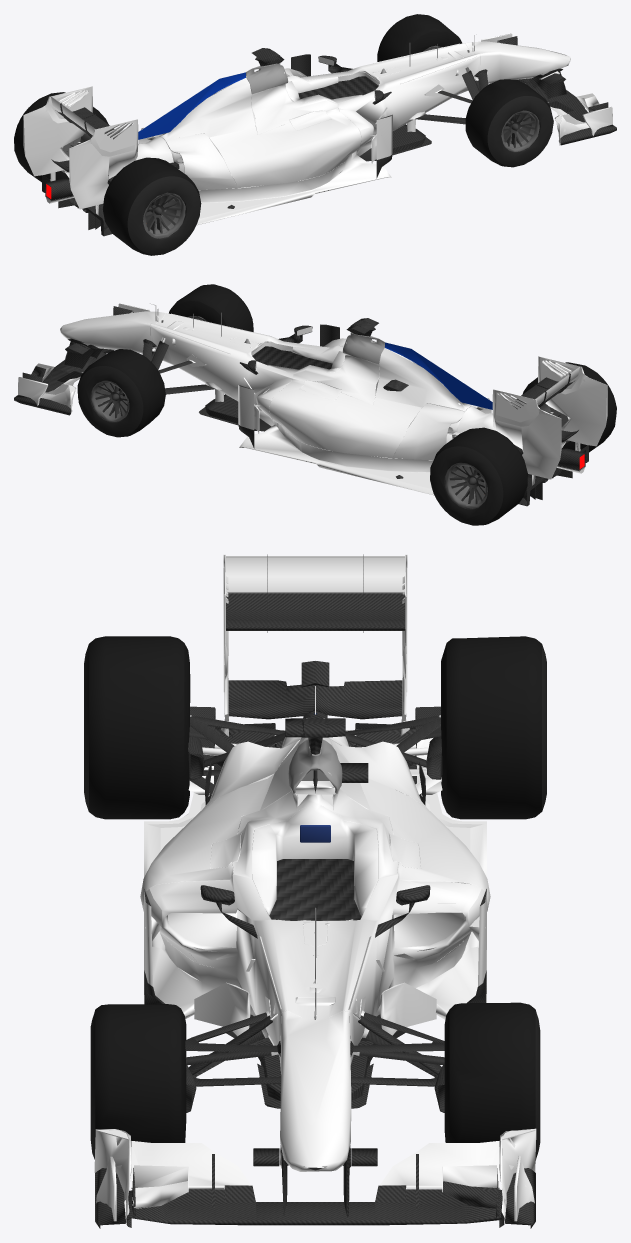
3 renders of one model, top to bottom at view 1: azimuth 30°, elevation 25°; view 2: azimuth 150°, elevation 25°; view 3: azimuth 270°, elevation 25°, orthographic. The views are drawn at different scales.
Visible parts, largest first — view 1: Object_4, Object_12, Object_5, Object_13, Object_14, Object_15, Object_10, Object_7; view 2: Object_4, Object_12, Object_5, Object_13, Object_14, Object_15, Object_10, Object_7; view 3: Object_4, Object_12, Object_5, Object_13, Object_7.
Boxes of the visible parts, x1,y1,x2,y2 form: Object_4: [23, 33, 612, 225]; Object_12: [14, 14, 553, 255]; Object_5: [42, 36, 616, 236]; Object_13: [19, 25, 553, 254]; Object_14: [61, 45, 539, 238]; Object_15: [145, 113, 535, 233]; Object_10: [138, 72, 245, 139]; Object_7: [147, 35, 474, 162]; Object_4: [18, 303, 607, 495]; Object_12: [77, 284, 616, 525]; Object_5: [14, 306, 588, 506]; Object_13: [77, 299, 611, 524]; Object_14: [91, 316, 569, 508]; Object_15: [95, 383, 485, 504]; Object_10: [385, 342, 492, 409]; Object_7: [150, 303, 483, 432]; Object_4: [94, 554, 536, 1221]; Object_12: [89, 636, 541, 1146]; Object_5: [95, 554, 535, 1228]; Object_13: [84, 644, 546, 1160]; Object_7: [288, 739, 342, 1019].
Size of the model in its own units: 20.99 by 4.73 by 8.05.
Materials: 13 (1 with a texture image).
